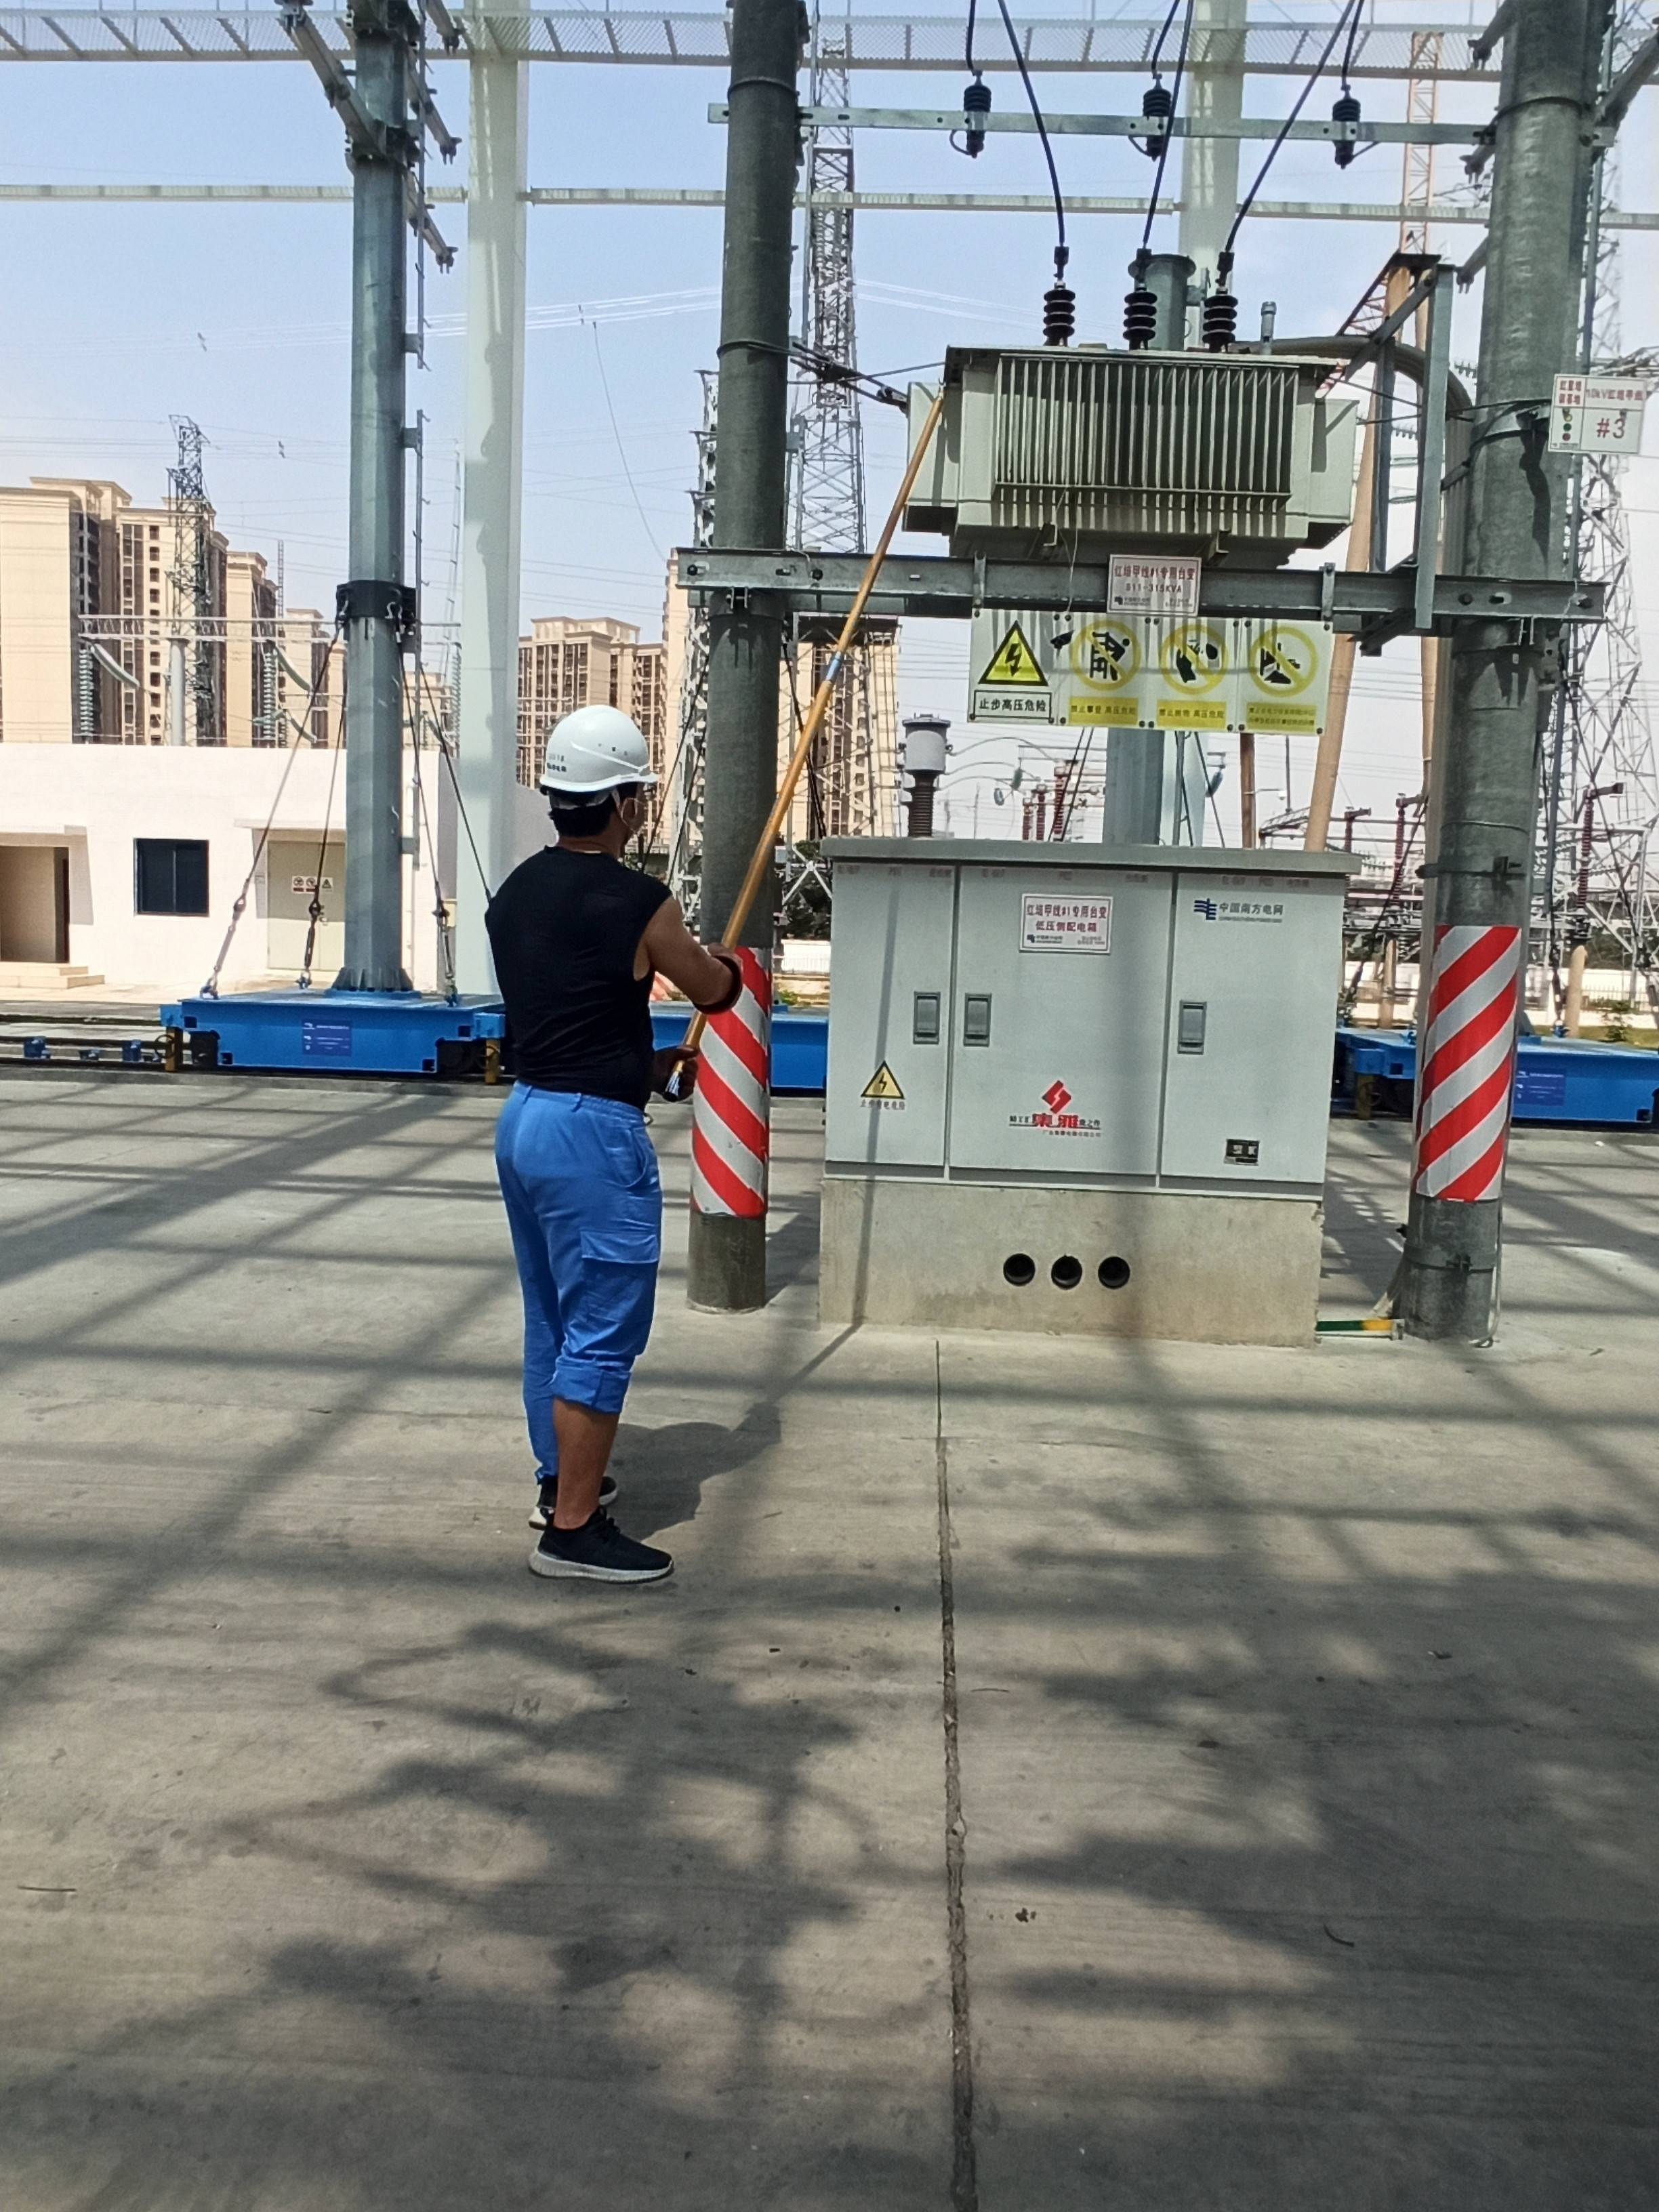downsuit: (481, 1097, 680, 1519)
upcloth: (483, 846, 690, 1090)
wrongbottom: (542, 1355, 634, 1534)
